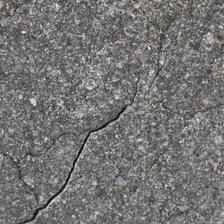Crack: (14, 38, 132, 182)
